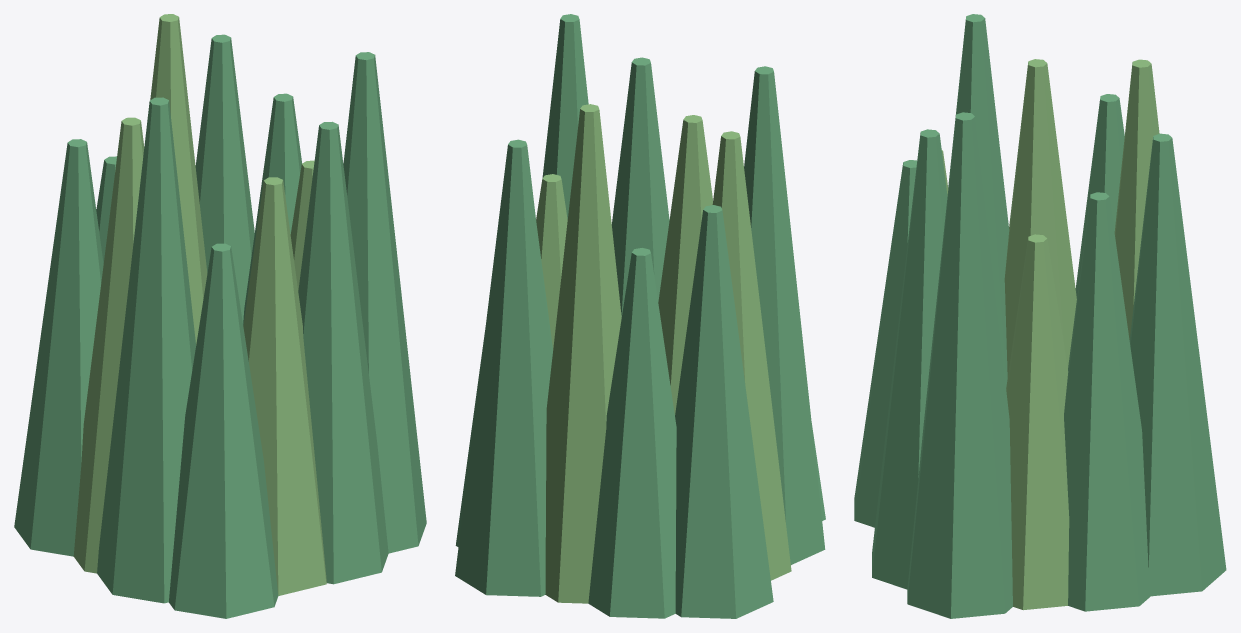
The model's file is aloe-vera.glb.
The picture shows the model from 3 angles, left to right: view 1: azimuth 30°, elevation 25°; view 2: azimuth 150°, elevation 25°; view 3: azimuth 270°, elevation 25°; orthographic projection.
Parts seen in each view (by area): view 1: Aloe_Leaf_7, Aloe_Leaf_8, Aloe_Leaf_10, Aloe_Leaf_5, Aloe_Leaf_9, Aloe_Leaf_11, Aloe_Leaf_6, Aloe_Leaf_2, Aloe_Leaf_3, Aloe_Leaf_1, Aloe_Leaf_0, Aloe_Leaf_4; view 2: Aloe_Leaf_2, Aloe_Leaf_5, Aloe_Leaf_3, Aloe_Leaf_4, Aloe_Leaf_7, Aloe_Leaf_6, Aloe_Leaf_10, Aloe_Leaf_9, Aloe_Leaf_11, Aloe_Leaf_0, Aloe_Leaf_1; view 3: Aloe_Leaf_11, Aloe_Leaf_2, Aloe_Leaf_1, Aloe_Leaf_0, Aloe_Leaf_10, Aloe_Leaf_6, Aloe_Leaf_8, Aloe_Leaf_7, Aloe_Leaf_3, Aloe_Leaf_5.
Part boxes in pixels (box(x1,y1,x2,y2)): Aloe_Leaf_7: box(97, 97, 195, 603); Aloe_Leaf_8: box(169, 243, 278, 618); Aloe_Leaf_10: box(298, 121, 388, 584); Aloe_Leaf_5: box(14, 139, 103, 556); Aloe_Leaf_9: box(243, 177, 326, 595); Aloe_Leaf_11: box(343, 52, 426, 553); Aloe_Leaf_6: box(73, 117, 144, 573); Aloe_Leaf_2: box(195, 34, 254, 324); Aloe_Leaf_3: box(150, 14, 207, 345); Aloe_Leaf_1: box(243, 93, 302, 325); Aloe_Leaf_0: box(290, 160, 314, 290); Aloe_Leaf_4: box(96, 156, 116, 262); Aloe_Leaf_2: box(455, 139, 552, 596); Aloe_Leaf_5: box(675, 205, 773, 618); Aloe_Leaf_3: box(545, 104, 621, 603); Aloe_Leaf_4: box(588, 248, 676, 618); Aloe_Leaf_7: box(744, 66, 825, 564); Aloe_Leaf_6: box(712, 131, 791, 580); Aloe_Leaf_10: box(611, 57, 669, 316); Aloe_Leaf_9: box(658, 115, 712, 414); Aloe_Leaf_11: box(542, 14, 588, 218); Aloe_Leaf_0: box(536, 174, 567, 350); Aloe_Leaf_1: box(455, 228, 552, 547); Aloe_Leaf_11: box(907, 112, 1012, 618); Aloe_Leaf_2: box(1129, 133, 1226, 596); Aloe_Leaf_1: box(1064, 192, 1150, 611); Aloe_Leaf_0: box(1006, 234, 1069, 610); Aloe_Leaf_10: box(872, 129, 947, 589); Aloe_Leaf_6: box(1004, 59, 1076, 376); Aloe_Leaf_8: box(854, 160, 917, 527); Aloe_Leaf_7: box(948, 14, 1009, 388); Aloe_Leaf_3: box(1114, 59, 1159, 339); Aloe_Leaf_5: box(1075, 94, 1124, 298).
Bounding box in the file's own units: 0.9355 × 1.31 × 0.9277.
